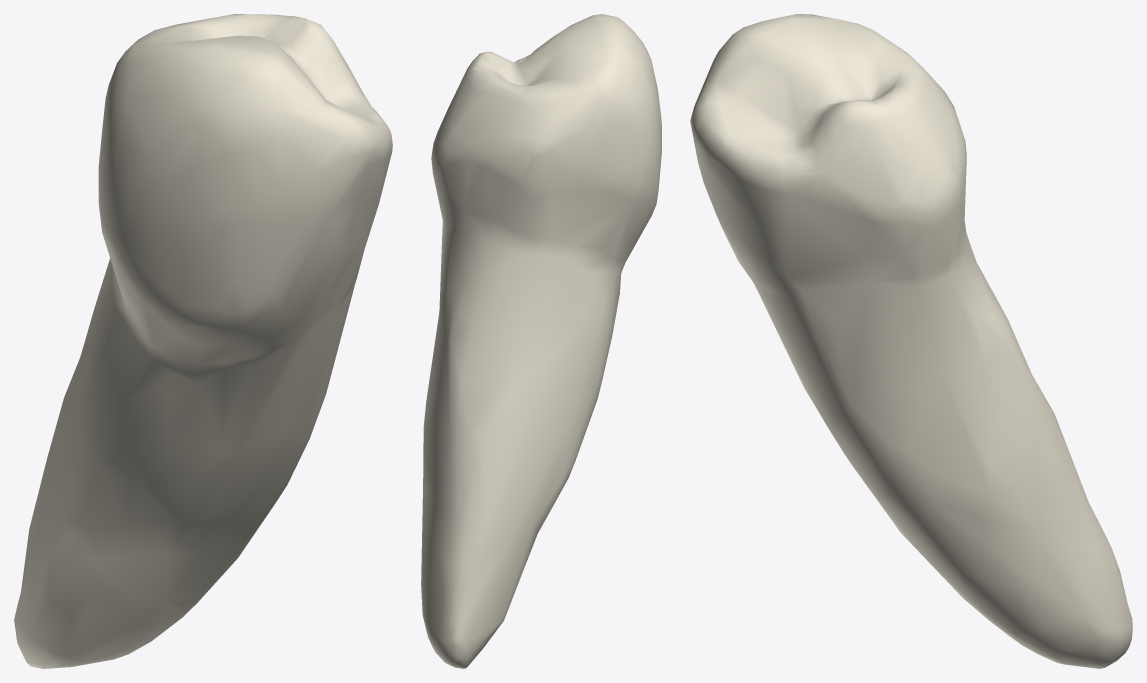
The picture shows the model from 3 angles, left to right: view 1: azimuth 30°, elevation 25°; view 2: azimuth 150°, elevation 25°; view 3: azimuth 270°, elevation 25°; orthographic projection. The views are drawn at different scales.
Parts seen in each view (by area): view 1: ZA_d66cbb99585fe0c5; view 2: ZA_d66cbb99585fe0c5; view 3: ZA_d66cbb99585fe0c5.
Boxes of the visible parts, left/top/right/bottom form: ZA_d66cbb99585fe0c5: left=14, top=14, right=392, bottom=668; ZA_d66cbb99585fe0c5: left=421, top=14, right=661, bottom=668; ZA_d66cbb99585fe0c5: left=690, top=14, right=1132, bottom=668.
Bounding box in the file's own units: 0.00778 × 0.022 × 0.0138.
